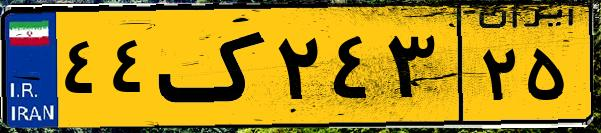2: (270, 28, 330, 110), (475, 38, 525, 113)
3: (385, 28, 445, 110)
4: (330, 28, 385, 110), (57, 26, 110, 100), (110, 28, 158, 98)
5: (525, 38, 570, 115)
ک: (158, 12, 270, 120)
